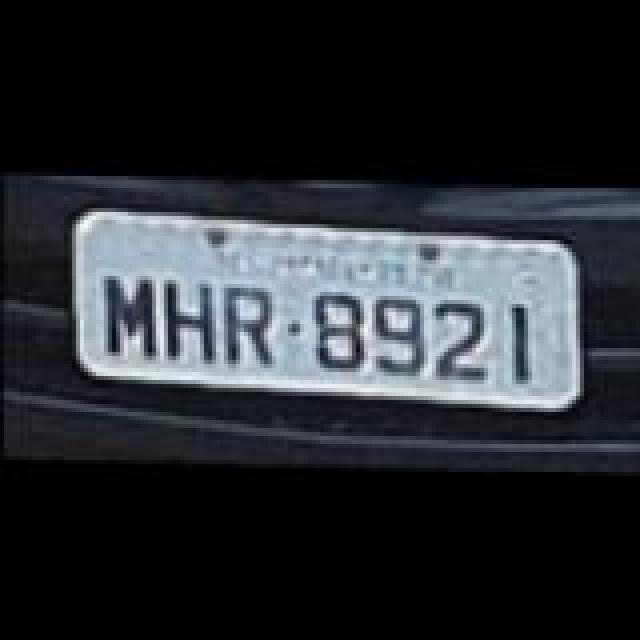1: (512, 300, 540, 380)
2: (430, 296, 494, 376)
8: (308, 290, 368, 370)
9: (372, 292, 432, 372)
H: (162, 278, 226, 362)
M: (102, 270, 158, 354)
R: (222, 280, 278, 360)
